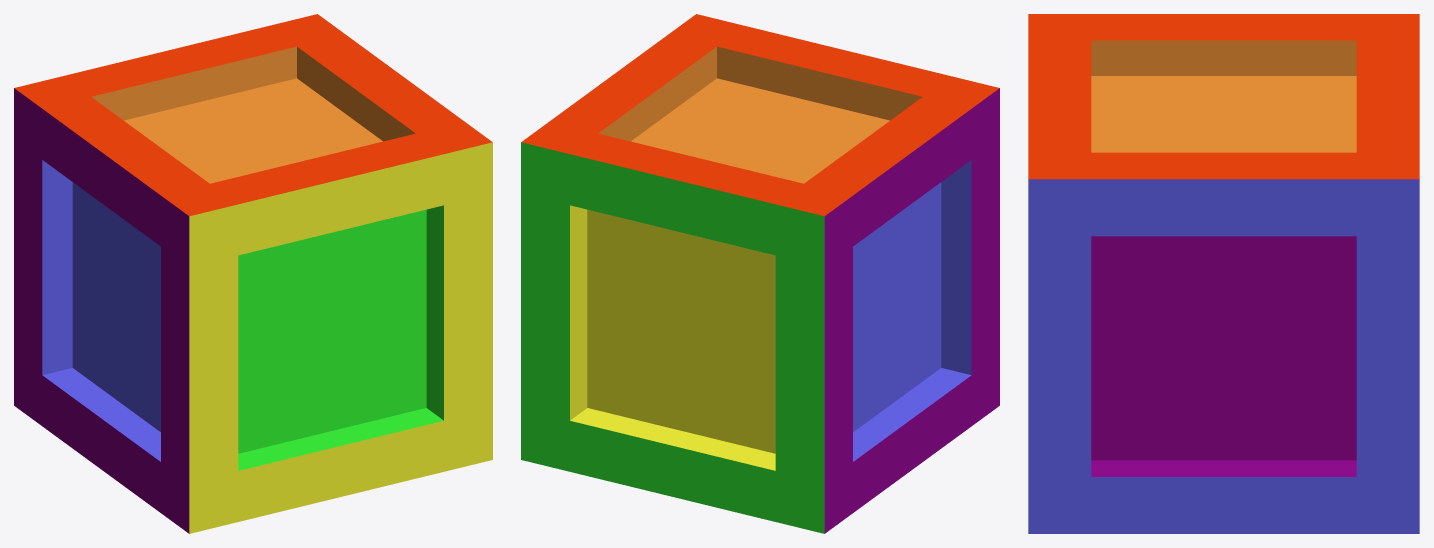
The model's file is random box 1.dae.
3 views of the same model, side by side, from view 1: azimuth 30°, elevation 25°; view 2: azimuth 150°, elevation 25°; view 3: azimuth 270°, elevation 25° (orthographic). The views are drawn at different scales.
Parts seen in each view (by area): view 1: SketchUp (×6); view 2: SketchUp (×6); view 3: SketchUp (×4).
Boxes of the visible parts, box(x1,y1,x2,y2) form: SketchUp (×6): box(14, 14, 492, 533); SketchUp (×6): box(521, 14, 999, 533); SketchUp (×4): box(1028, 14, 1419, 533).
Bounding box in the file's own units: 0.0787 × 0.0787 × 0.0787.
